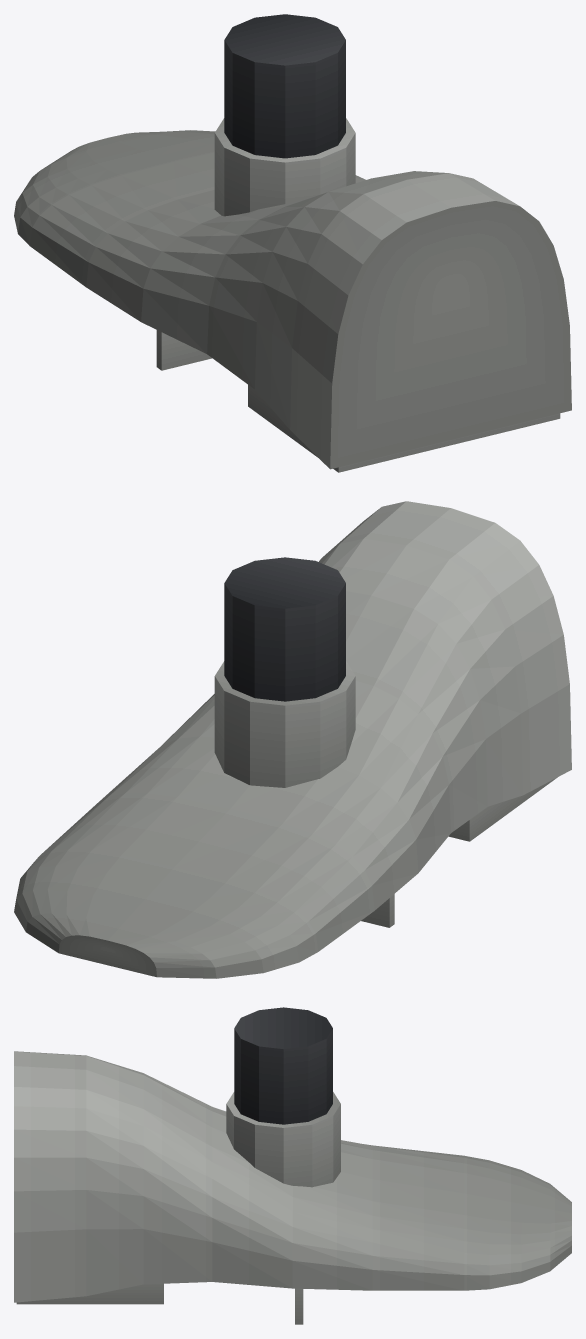
Rendered from streetlight_ltkc1hss.obj.
3 views of the same model, one above another, from view 1: azimuth 30°, elevation 25°; view 2: azimuth 150°, elevation 25°; view 3: azimuth 270°, elevation 25° (orthographic). The views are drawn at different scales.
Visible parts, largest first — view 1: fixture; view 2: fixture; view 3: fixture.
Part boxes in pixels (box(x1,y1,x2,y2)): fixture: box(14, 14, 571, 472); fixture: box(14, 501, 571, 978); fixture: box(14, 1007, 571, 1324).
Bounding box in the file's own units: 0.325 × 0.3313 × 0.6699.
